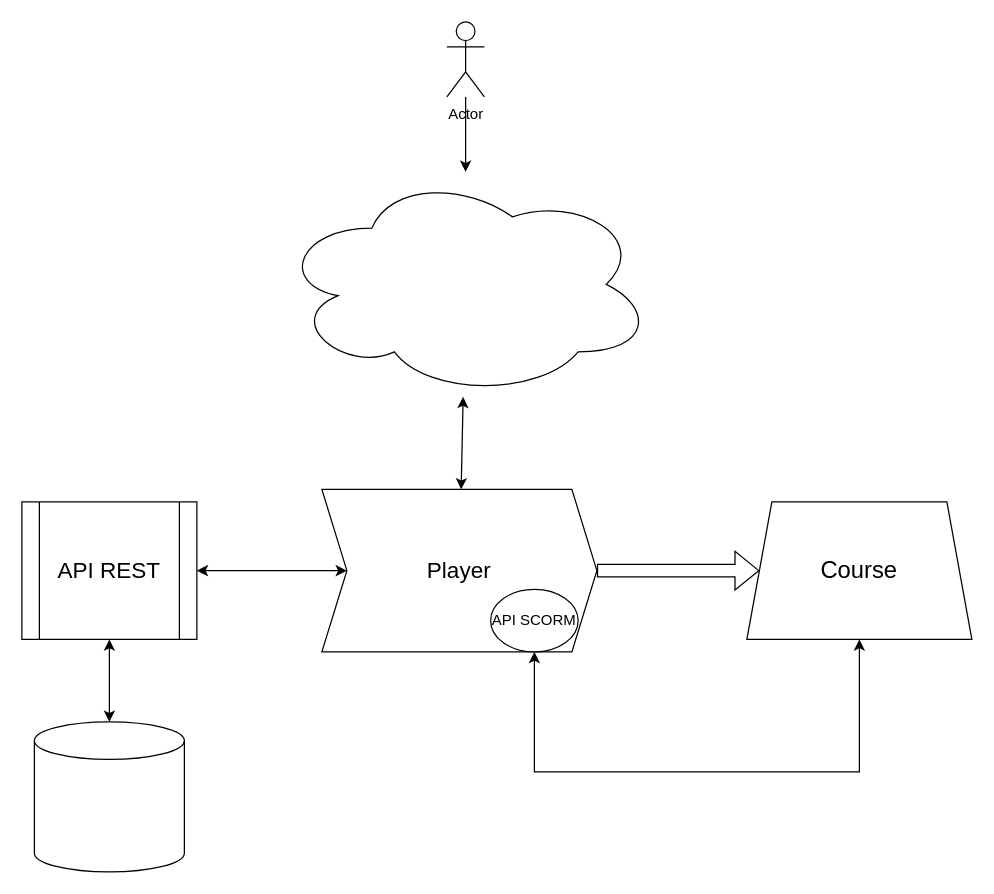
Image size: 994x894. Some labels were removed from this diagram. The shapes that lost their labels are listed below. From the top down, each one's centre as x and y in pixels, then its label:
At (x=465, y=284): "Internet".
At (x=108, y=796): "DB".
